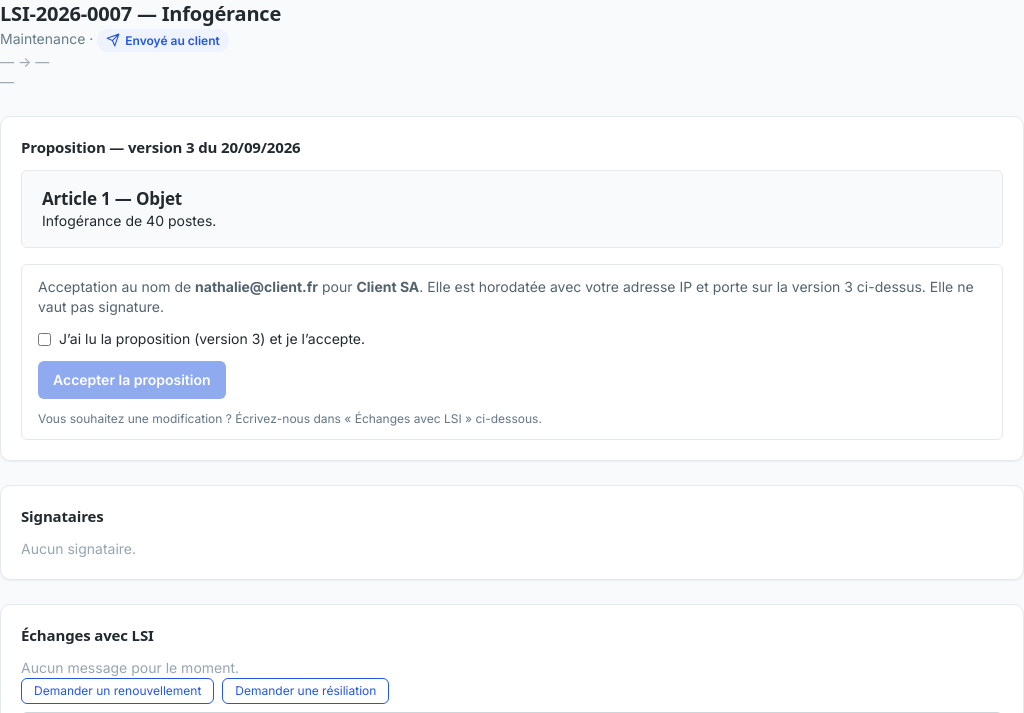
Test: le client lit la proposition et l’accepte (version présentée, identité de la session)
Expected: the text "Infogérance de 40 postes." is shown, [42,212,216,229]
Expected: the heading "Proposition — version 3 du 20/09/2026" is shown, [21,137,300,158]
Click the checkbox labelled "J’ai lu la proposition (version 3) et je l’accepte.": coordinates (44, 340) [38,333,51,346]
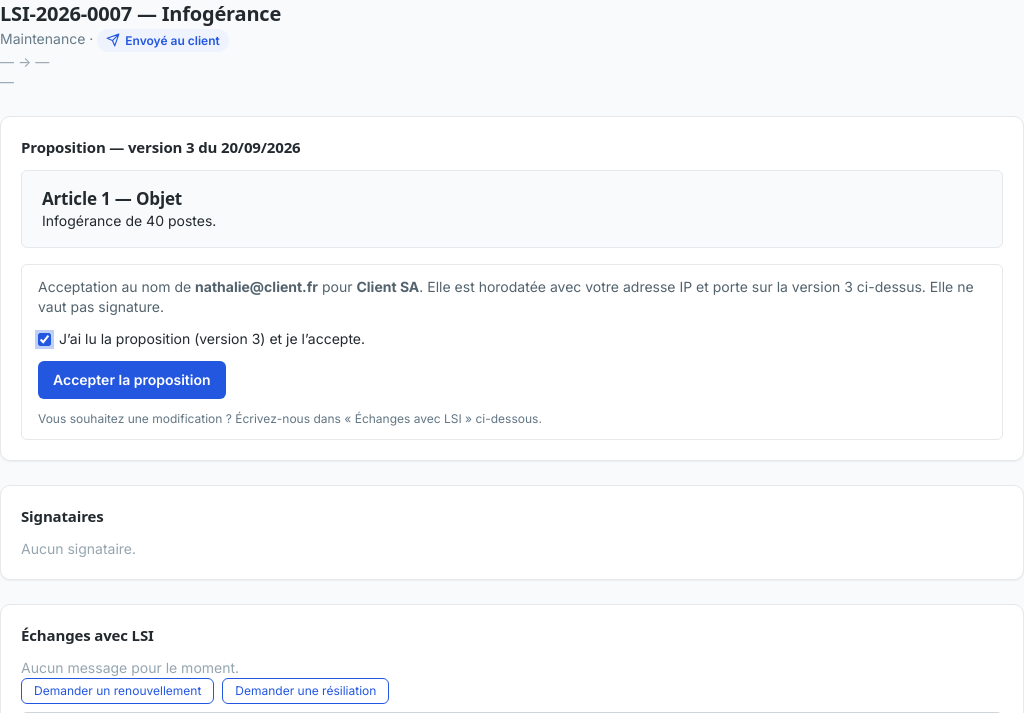
Click the button "Accepter la proposition": coordinates (132, 380) [38,361,226,399]
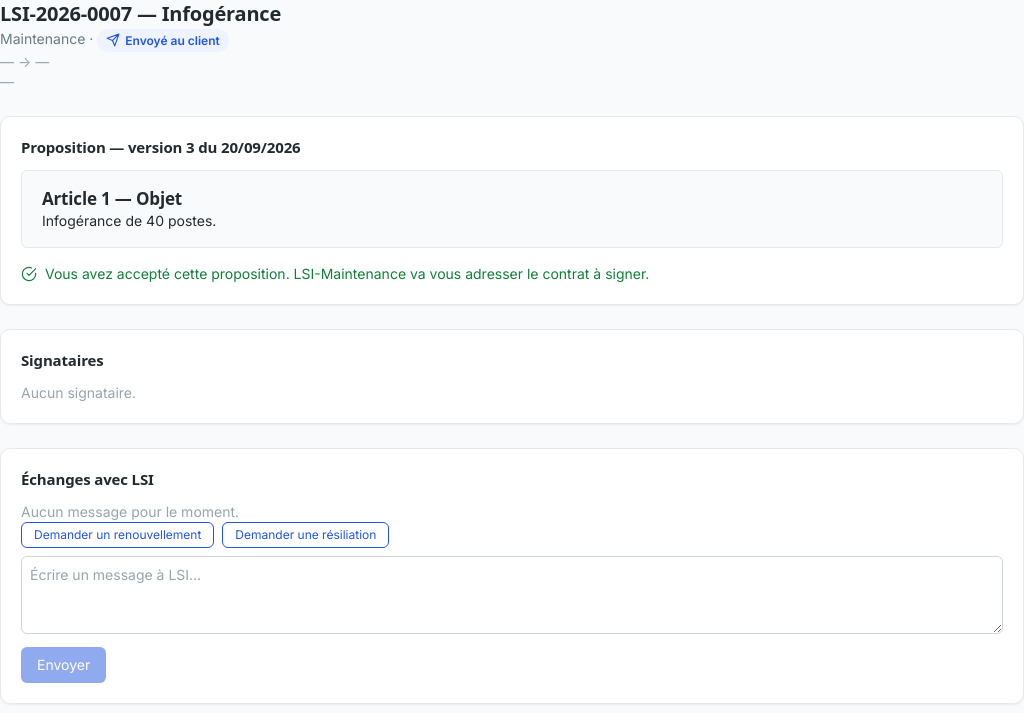
Expected: the text "Vous avez accepté cette proposition" is shown, [45,265,649,282]
